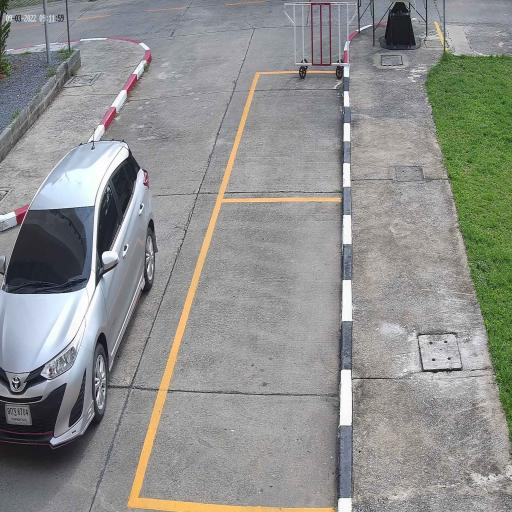car: (0, 140, 156, 446)
